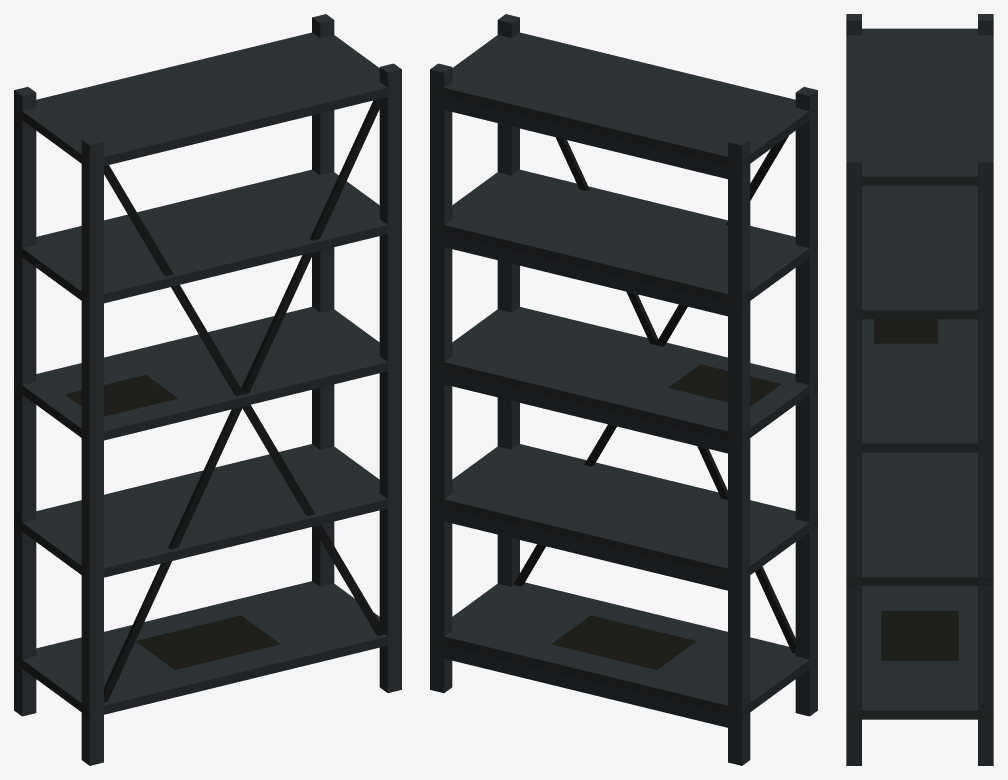
File: lp_shelf_unit.glb
3 renders of one model, left to right at view 1: azimuth 30°, elevation 25°; view 2: azimuth 150°, elevation 25°; view 3: azimuth 270°, elevation 25°, orthographic. The views are drawn at different scales.
Visible parts, largest first — view 1: lp_shelf_unit; view 2: lp_shelf_unit; view 3: lp_shelf_unit.
Part boxes in pixels (x1,y1,x2,y2): lp_shelf_unit: (14, 14, 401, 765); lp_shelf_unit: (430, 14, 817, 765); lp_shelf_unit: (846, 14, 993, 765).
Size of the model in its own units: 1 by 1.9 by 0.42.
Materials: 1 (1 with a texture image).
